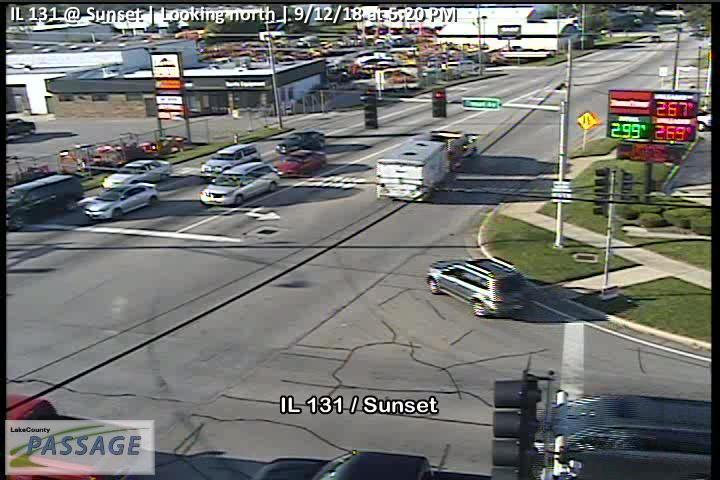SUV: (536, 396, 710, 480), (425, 256, 529, 317), (200, 162, 279, 206), (200, 143, 261, 182), (274, 128, 325, 155)
Sedan: (82, 182, 158, 221), (101, 159, 170, 190), (278, 149, 327, 176)
Truck: (376, 128, 474, 203), (6, 174, 82, 231)
